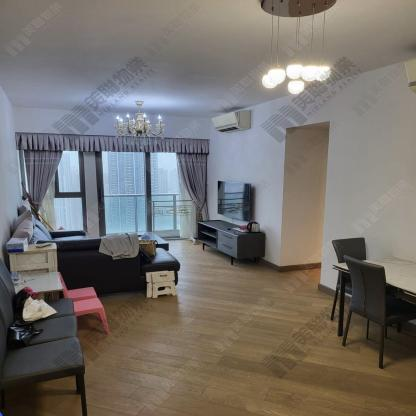AC: (210, 110, 251, 134)
Dining Table: (332, 256, 416, 304)
TV: (217, 180, 251, 222)
